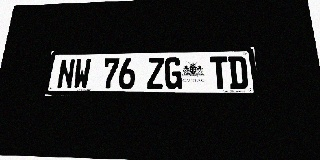6: (118, 58, 136, 89)
7: (101, 58, 120, 89)
D: (228, 56, 249, 89)
G: (165, 57, 182, 89)
N: (56, 59, 76, 89)
T: (210, 56, 229, 89)
W: (72, 59, 91, 89)
Z: (147, 57, 164, 89)
